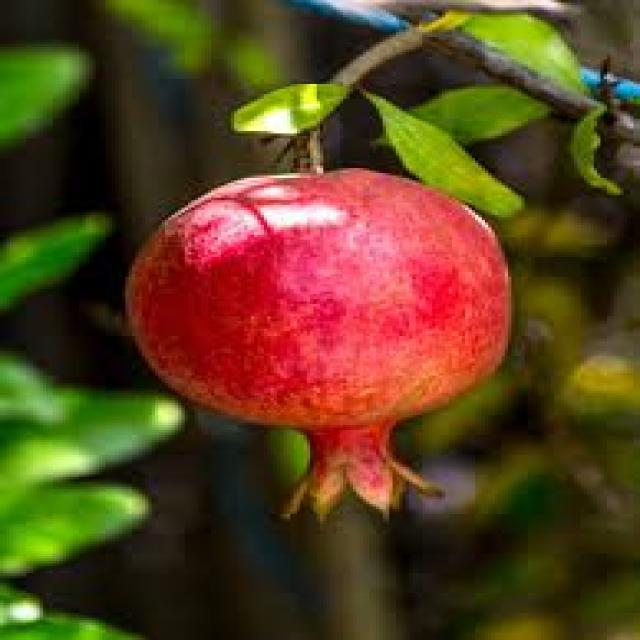Pomegranate: (125, 168, 518, 524)
